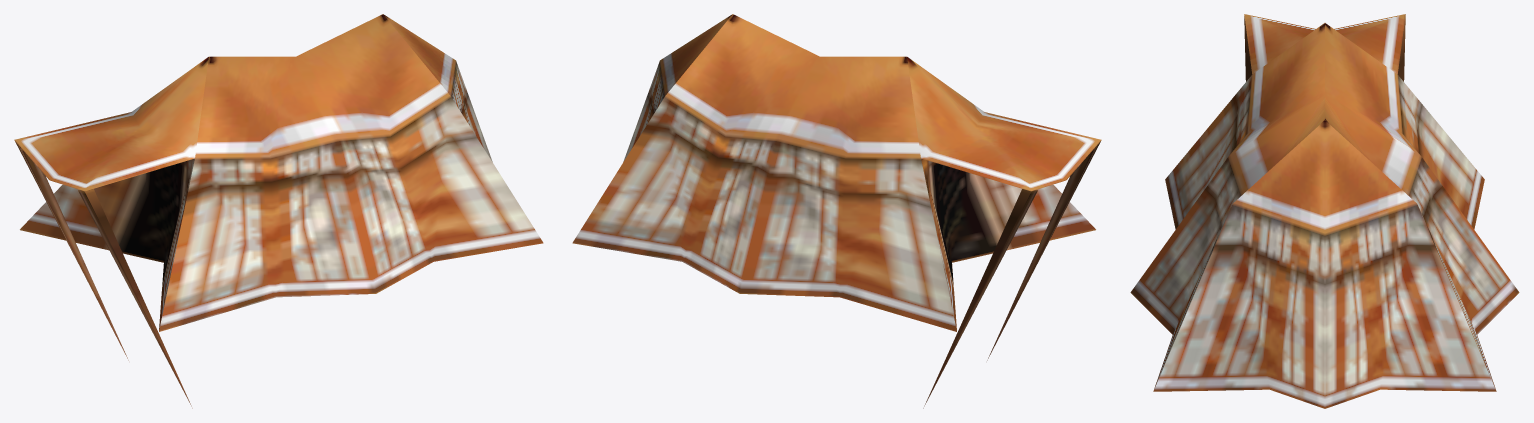
File: idle.glb
3 views of the same model, side by side, from view 1: azimuth 30°, elevation 25°; view 2: azimuth 150°, elevation 25°; view 3: azimuth 270°, elevation 25° (orthographic). The views are drawn at different scales.
Visible parts, largest first — view 1: MeshRoot; view 2: MeshRoot; view 3: MeshRoot.
Boxes of the visible parts, x1,y1,x2,y2 form: MeshRoot: [14, 14, 543, 408]; MeshRoot: [572, 14, 1101, 408]; MeshRoot: [1130, 14, 1519, 408].
Size of the model in its own units: 5.5 by 3.71 by 3.59.
2 materials, 2 textured.
